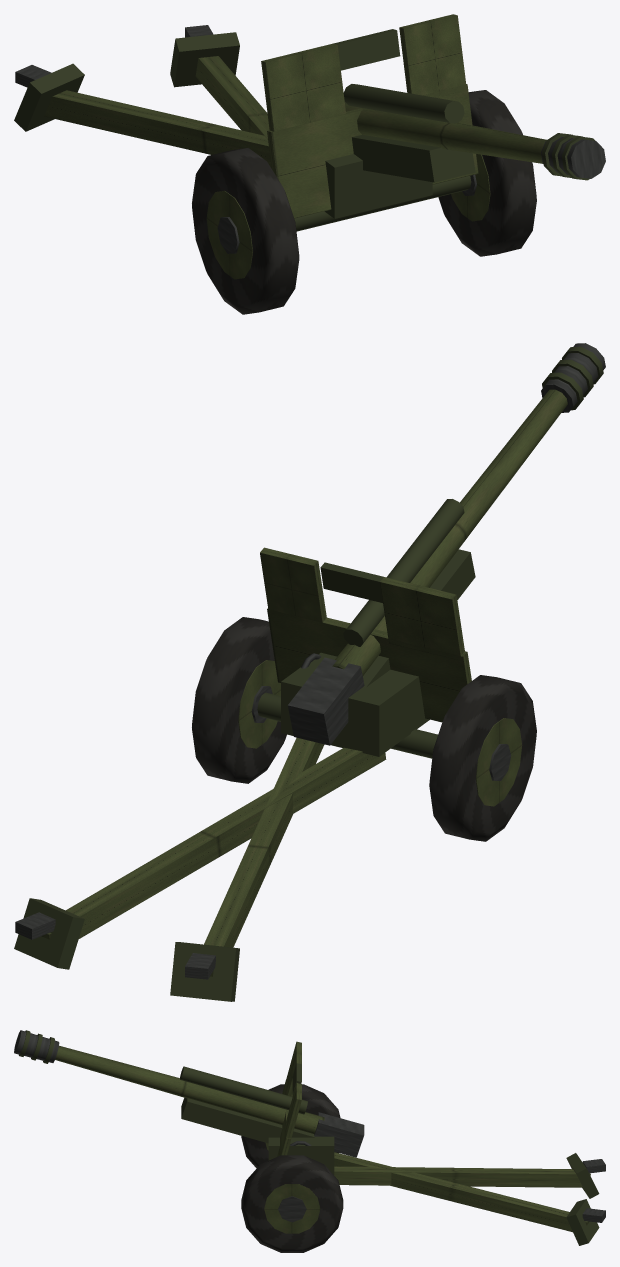
File: howitzer_m30_122mm_lod1.glb
3 views of the same model, one above another, from view 1: azimuth 30°, elevation 25°; view 2: azimuth 150°, elevation 25°; view 3: azimuth 270°, elevation 25° (orthographic). The views are drawn at different scales.
Visible parts, largest first — view 1: Howitzer_122mm_M30; view 2: Howitzer_122mm_M30; view 3: Howitzer_122mm_M30.
Boxes of the visible parts, x1,y1,x2,y2 form: Howitzer_122mm_M30: (14, 14, 605, 314); Howitzer_122mm_M30: (14, 343, 605, 1001); Howitzer_122mm_M30: (14, 1030, 605, 1252).
Size of the model in its own units: 2.12 by 2.22 by 6.48.
4 materials, 3 textured.
